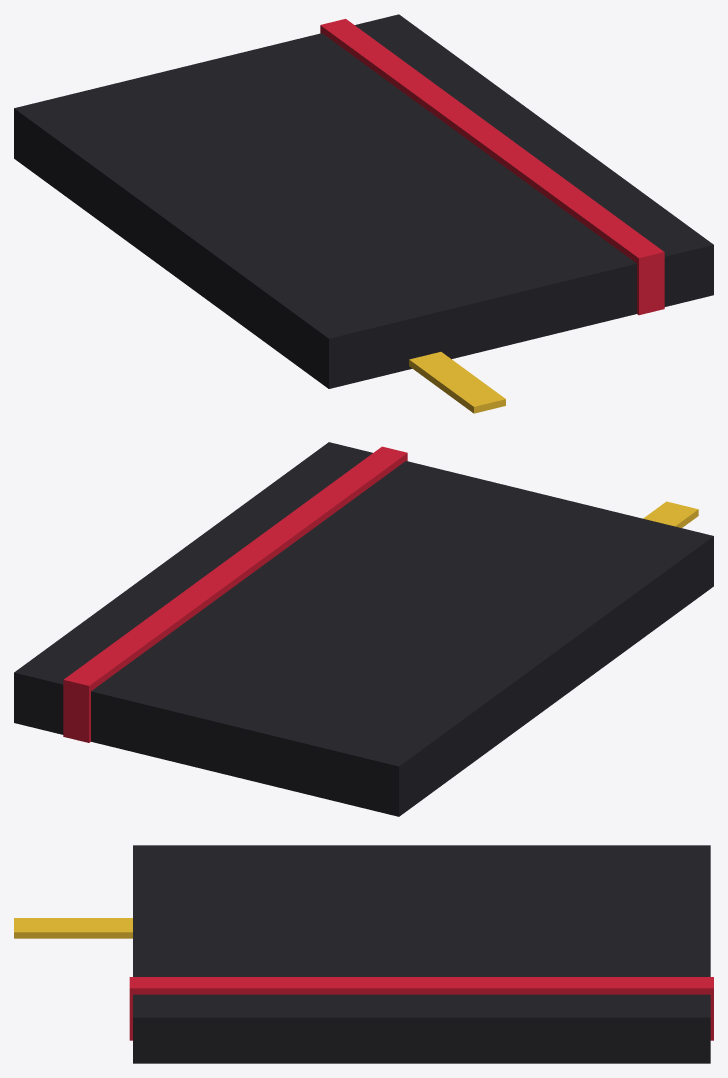
Rendered from karaoke_code_notebook.glb.
3 renders of one model, top to bottom at view 1: azimuth 30°, elevation 25°; view 2: azimuth 150°, elevation 25°; view 3: azimuth 270°, elevation 25°, orthographic. The views are drawn at different scales.
Visible parts, largest first — view 1: cover_notebook_black, band_notebook_band, mark_notebook_mark; view 2: cover_notebook_black, band_notebook_band, mark_notebook_mark; view 3: cover_notebook_black, band_notebook_band, mark_notebook_mark.
Boxes of the visible parts, x1=… form: cover_notebook_black: x1=14, y1=14, x2=713, y2=388; band_notebook_band: x1=320, y1=19, x2=664, y2=315; mark_notebook_mark: x1=409, y1=352, x2=505, y2=413; cover_notebook_black: x1=14, y1=442, x2=713, y2=816; band_notebook_band: x1=63, y1=446, x2=407, y2=742; mark_notebook_mark: x1=643, y1=501, x2=698, y2=527; cover_notebook_black: x1=133, y1=845, x2=710, y2=1063; band_notebook_band: x1=129, y1=977, x2=713, y2=1040; mark_notebook_mark: x1=14, y1=918, x2=132, y2=938.
Bounding box in the file's own units: 0.12 × 0.017 × 0.206.
